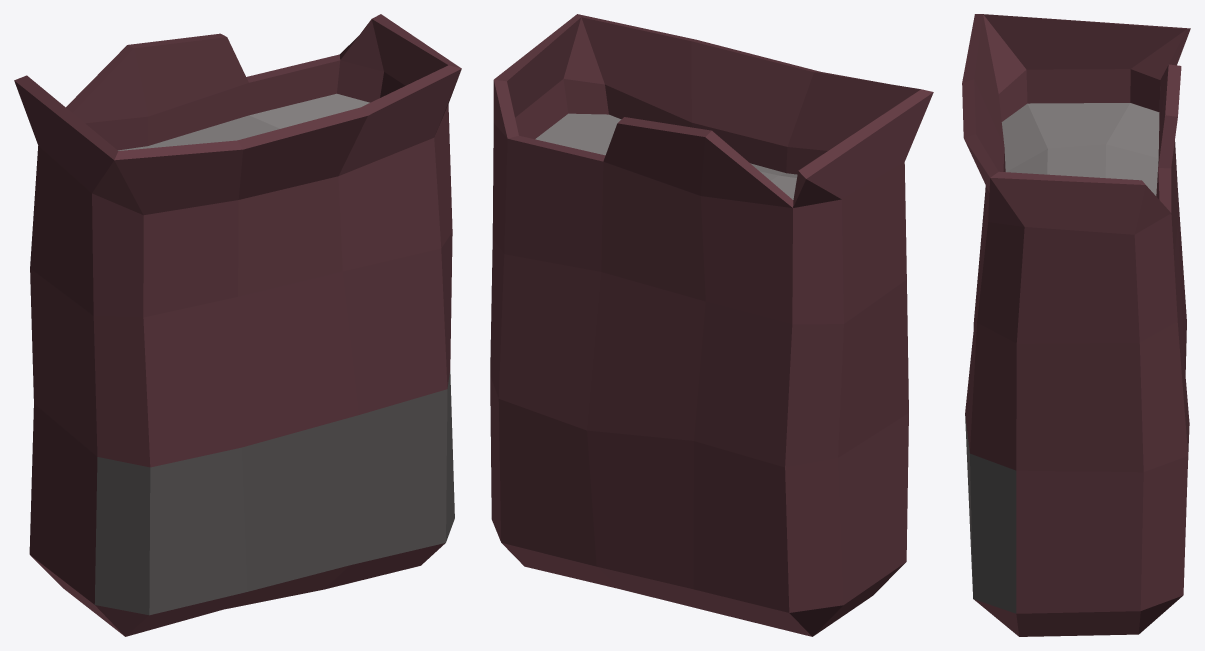
The model's file is cement-bag-open.fbx.
3 renders of one model, left to right at view 1: azimuth 30°, elevation 25°; view 2: azimuth 150°, elevation 25°; view 3: azimuth 270°, elevation 25°, orthographic. The views are drawn at different scales.
Visible parts, largest first — view 1: bag-cement-open; view 2: bag-cement-open; view 3: bag-cement-open.
Part boxes in pixels (x1,y1,x2,y2): bag-cement-open: (14, 14, 461, 636); bag-cement-open: (490, 14, 933, 636); bag-cement-open: (962, 14, 1190, 636).
Bounding box in the file's own units: 0.4561 × 0.612 × 0.2649.
